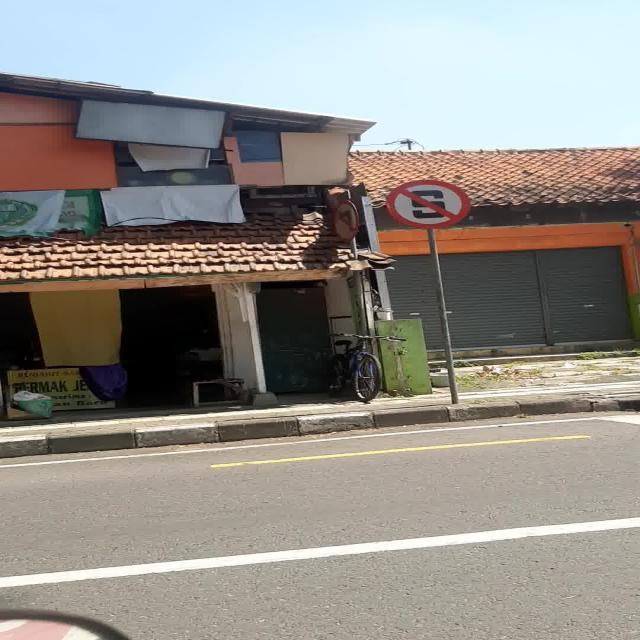Dilarang Berhenti: (387, 180, 470, 228)
